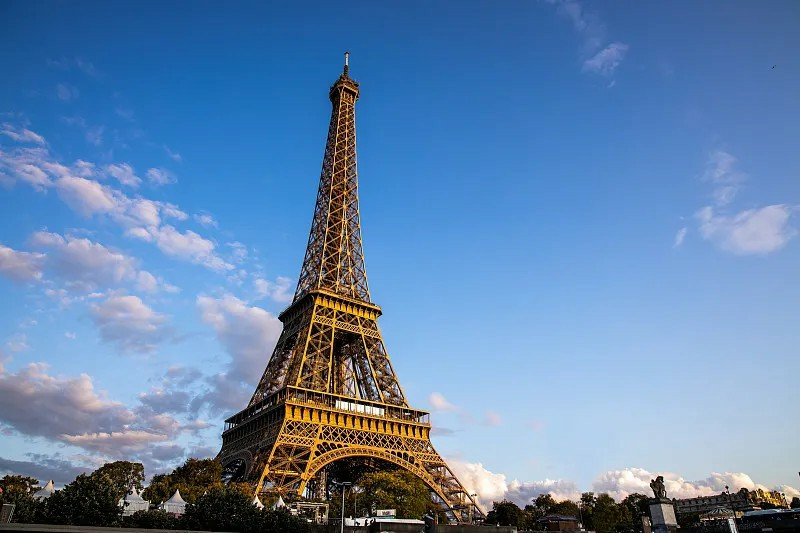Eiffel: (206, 52, 487, 527)
